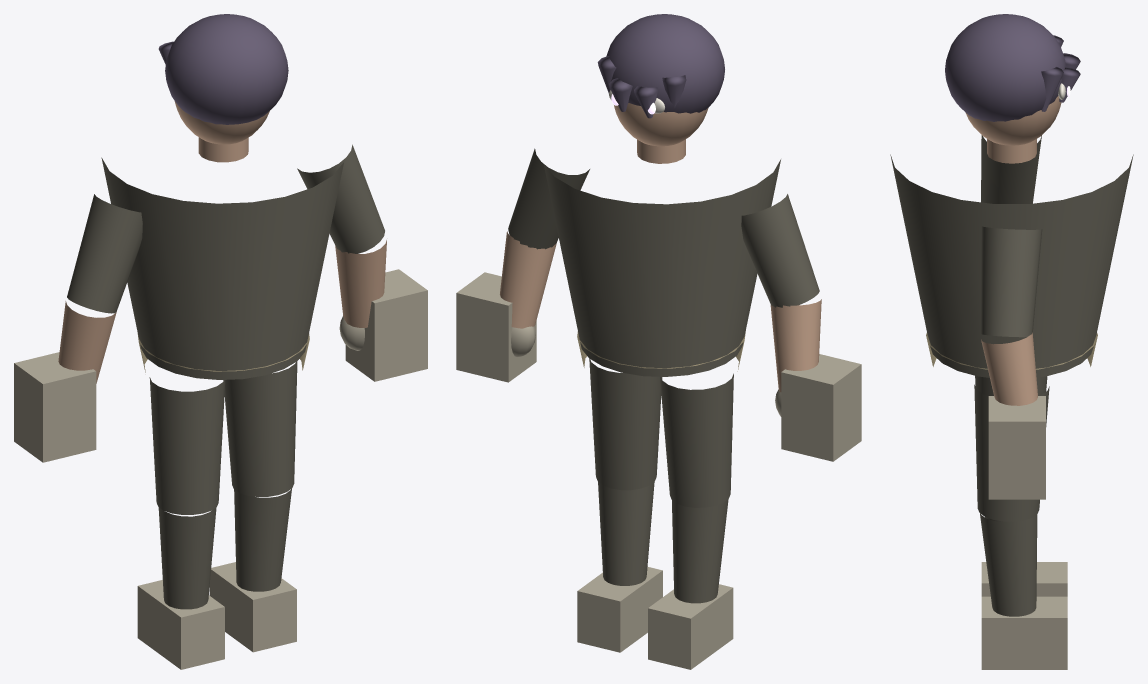
File: kitty-procedural-v1.glb
The picture shows the model from 3 angles, left to right: view 1: azimuth 30°, elevation 25°; view 2: azimuth 150°, elevation 25°; view 3: azimuth 270°, elevation 25°; orthographic projection. The views are drawn at different scales.
Visible parts, largest first — view 1: Outfit_Torso, Hair_Cap, Body_Thigh_L, Body_Thigh_R, Weapon_Gauntlet_L, Weapon_Gauntlet_R, Body_UpperArm_L, Outfit_Boot_L, Outfit_Boot_R, Body_Shin_R, Body_Shin_L, Body_UpperArm_R (+4 smaller); view 2: Outfit_Torso, Hair_Cap, Body_Thigh_L, Body_Thigh_R, Weapon_Gauntlet_L, Weapon_Gauntlet_R, Body_UpperArm_L, Outfit_Boot_L, Outfit_Boot_R, Body_Shin_R, Body_Shin_L, Body_UpperArm_R (+5 smaller); view 3: Outfit_Torso, Hair_Cap, Body_UpperArm_R, Weapon_Gauntlet_R, Outfit_Boot_R, Body_Shin_R, Body_Forearm_R, Body_Thigh_R, Body_UpperArm_L, Body_Head, Outfit_Boot_L, Body_Neck (+3 smaller).
Boxes of the visible parts, bbox=[...] form: Outfit_Torso: bbox=[101, 157, 343, 379]; Hair_Cap: bbox=[165, 14, 288, 124]; Body_Thigh_L: bbox=[149, 377, 225, 514]; Body_Thigh_R: bbox=[223, 361, 297, 496]; Weapon_Gauntlet_L: bbox=[14, 352, 96, 462]; Weapon_Gauntlet_R: bbox=[345, 269, 427, 381]; Body_UpperArm_L: bbox=[67, 194, 142, 313]; Outfit_Boot_L: bbox=[137, 580, 224, 669]; Outfit_Boot_R: bbox=[209, 562, 296, 652]; Body_Shin_R: bbox=[234, 488, 291, 591]; Body_Shin_L: bbox=[158, 507, 216, 609]; Body_UpperArm_R: bbox=[297, 144, 384, 253]; Outfit_Torso: bbox=[543, 159, 780, 376]; Hair_Cap: bbox=[606, 14, 724, 113]; Body_Thigh_L: bbox=[660, 373, 733, 507]; Body_Thigh_R: bbox=[589, 358, 662, 490]; Weapon_Gauntlet_L: bbox=[781, 354, 861, 461]; Weapon_Gauntlet_R: bbox=[456, 272, 536, 382]; Body_UpperArm_L: bbox=[741, 194, 819, 307]; Outfit_Boot_L: bbox=[648, 584, 733, 669]; Outfit_Boot_R: bbox=[577, 567, 662, 652]; Body_Shin_R: bbox=[598, 482, 654, 585]; Body_Shin_L: bbox=[672, 499, 728, 603]; Body_UpperArm_R: bbox=[508, 148, 589, 249]; Outfit_Torso: bbox=[890, 154, 1133, 377]; Hair_Cap: bbox=[945, 14, 1065, 121]; Body_UpperArm_R: bbox=[981, 226, 1042, 337]; Weapon_Gauntlet_R: bbox=[988, 396, 1045, 499]; Outfit_Boot_R: bbox=[981, 596, 1067, 669]; Body_Shin_R: bbox=[980, 513, 1037, 616]; Body_Forearm_R: bbox=[981, 332, 1037, 405]; Body_Thigh_R: bbox=[974, 384, 1049, 521]; Body_UpperArm_L: bbox=[981, 135, 1041, 203]; Body_Head: bbox=[965, 96, 1061, 145]; Outfit_Boot_L: bbox=[981, 562, 1067, 596]; Body_Neck: bbox=[987, 139, 1036, 163].
Bounding box in the file's own units: 1.26 × 1.96 × 0.6953.
